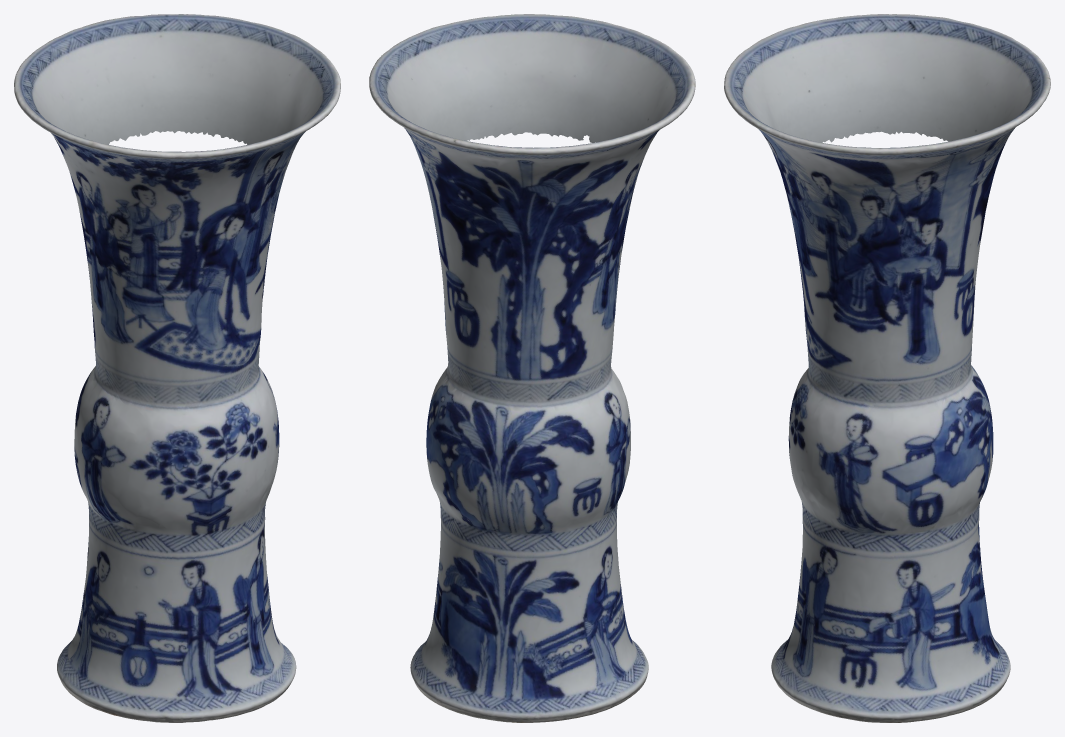
The model's file is beaker-vase-193.glb.
The picture shows the model from 3 angles, left to right: view 1: azimuth 30°, elevation 25°; view 2: azimuth 150°, elevation 25°; view 3: azimuth 270°, elevation 25°; orthographic projection.
Size of the model in its own units: 0.2105 by 0.4236 by 0.2109.
1 material, 1 textured.
